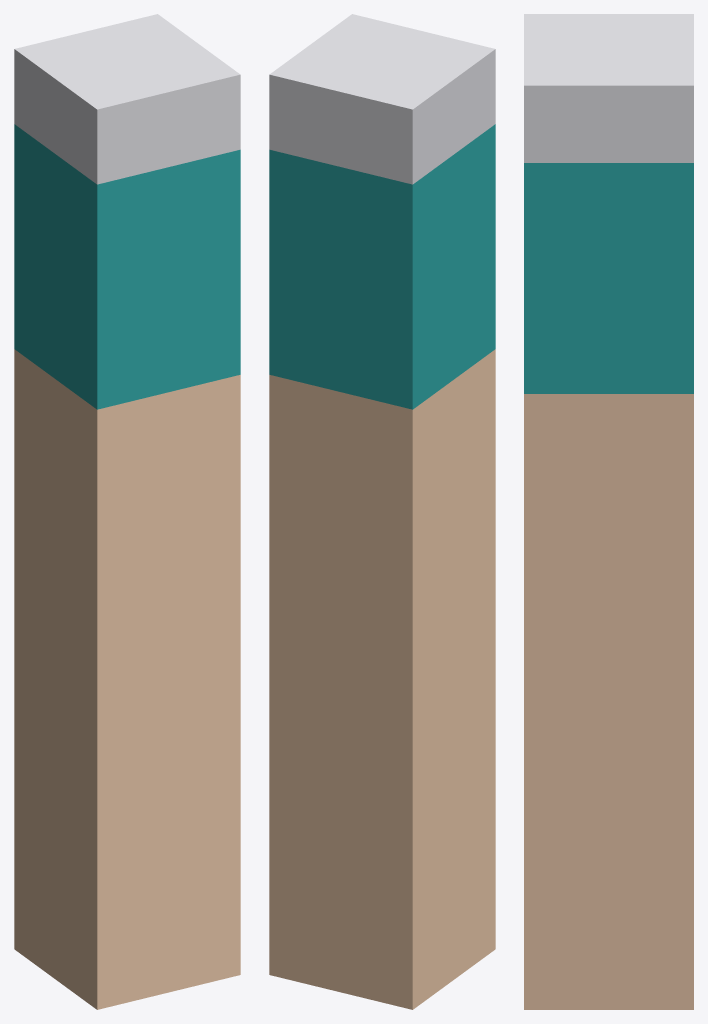
Rendered from arm.obj.
3 views of the same model, side by side, from view 1: azimuth 30°, elevation 25°; view 2: azimuth 150°, elevation 25°; view 3: azimuth 270°, elevation 25° (orthographic). The views are drawn at different scales.
Bounding box in the file's own units: 0.2 × 1.2 × 0.2.
Materials: 1 (1 with a texture image).
